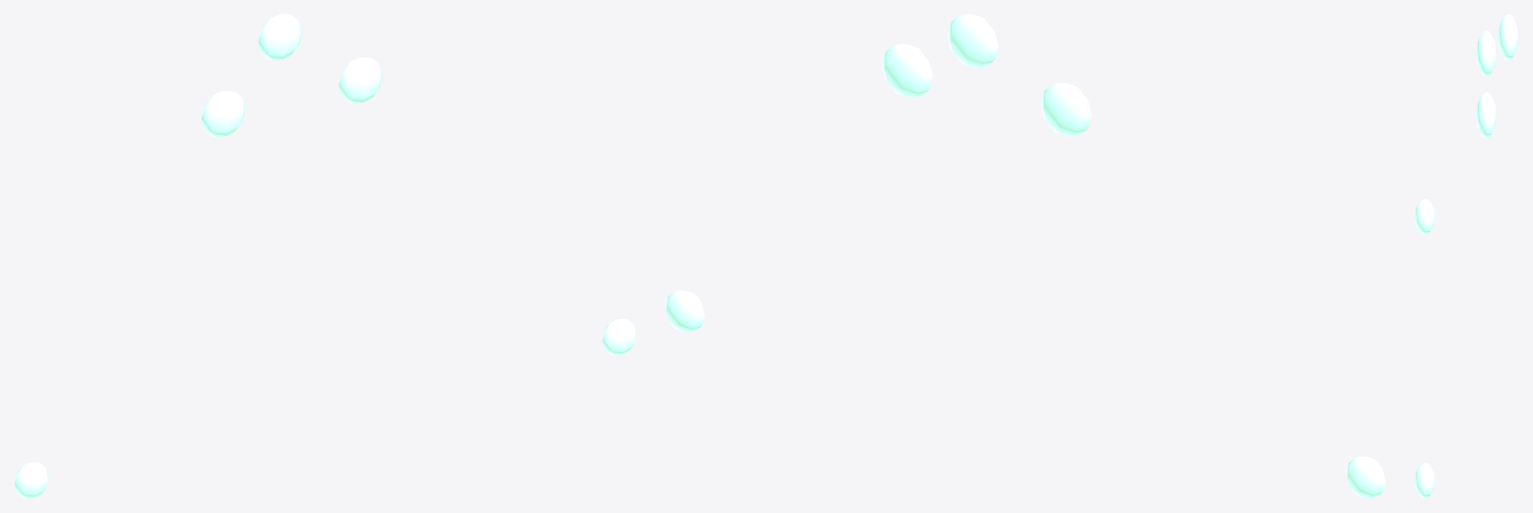
Rendered from Trait_Glowdots.fbx.
The picture shows the model from 3 angles, left to right: view 1: azimuth 30°, elevation 25°; view 2: azimuth 150°, elevation 25°; view 3: azimuth 270°, elevation 25°; orthographic projection. The views are drawn at different scales.
Visible parts, largest first — view 1: Glow_Dot.001, Glow_Dot, Glow_Dot.002, Glow_Dot.003, Glow_Dot.004; view 2: Glow_Dot.002, Glow_Dot, Glow_Dot.001, Glow_Dot.003, Glow_Dot.004; view 3: Glow_Dot, Glow_Dot.001, Glow_Dot.002, Glow_Dot.004, Glow_Dot.003.
Boxes of the visible parts, x1,y1,x2,y2 form: Glow_Dot.001: (338,57,382,103); Glow_Dot: (258,14,301,60); Glow_Dot.002: (201,90,245,137); Glow_Dot.003: (602,318,636,355); Glow_Dot.004: (14,462,48,498); Glow_Dot.002: (1040,82,1091,136); Glow_Dot: (947,14,998,67); Glow_Dot.001: (882,44,932,97); Glow_Dot.003: (665,290,704,332); Glow_Dot.004: (1346,456,1385,498); Glow_Dot: (1497,14,1518,60); Glow_Dot.001: (1476,92,1496,138); Glow_Dot.002: (1476,30,1496,76); Glow_Dot.004: (1414,198,1435,234); Glow_Dot.003: (1414,462,1435,498).
Bounding box in the file's own units: 63.5 × 37 × 10.
